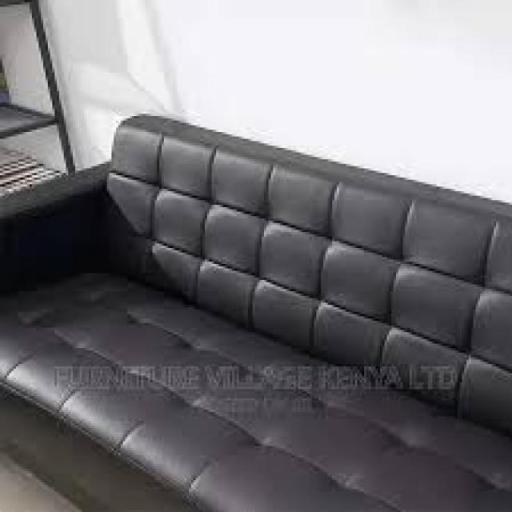sofa: (0, 98, 512, 512)
